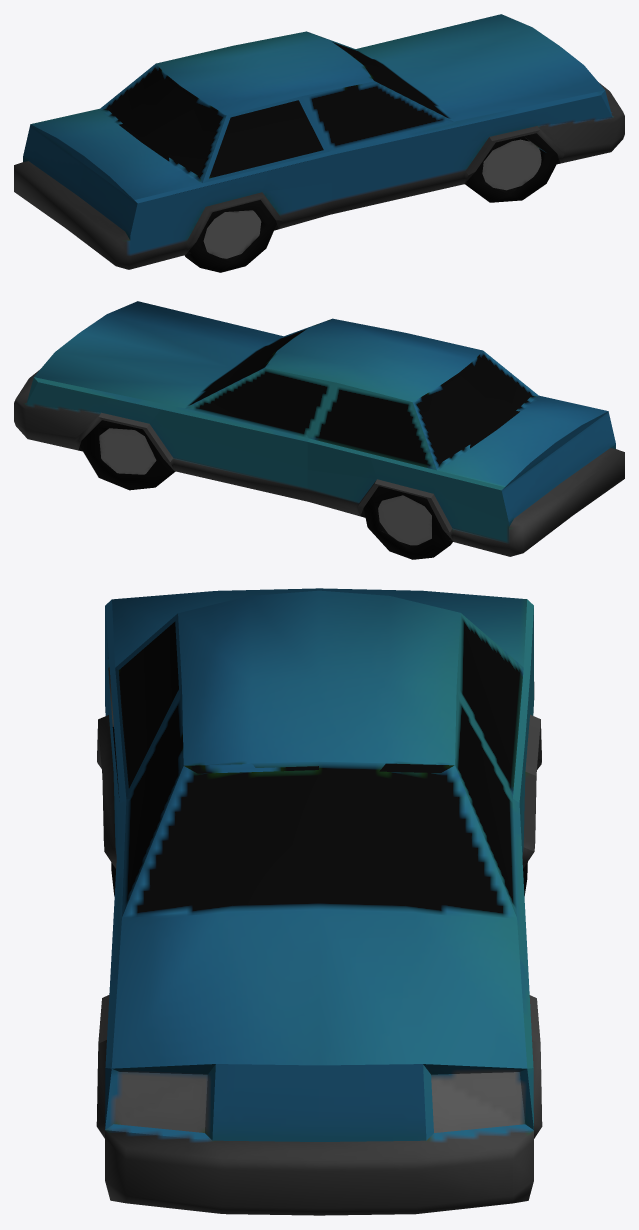
File: car_1.fbx
The picture shows the model from 3 angles, top to bottom: view 1: azimuth 30°, elevation 25°; view 2: azimuth 150°, elevation 25°; view 3: azimuth 270°, elevation 25°; orthographic projection. The views are drawn at different scales.
Visible parts, largest first — view 1: final_2; view 2: final_2; view 3: final_2.
Boxes of the visible parts, x1,y1,x2,y2 form: final_2: (14,14,624,272); final_2: (14,301,624,559); final_2: (96,588,542,1215).
Size of the model in its own units: 0.3415 by 0.2494 by 0.9283.
Materials: 1 (1 with a texture image).
